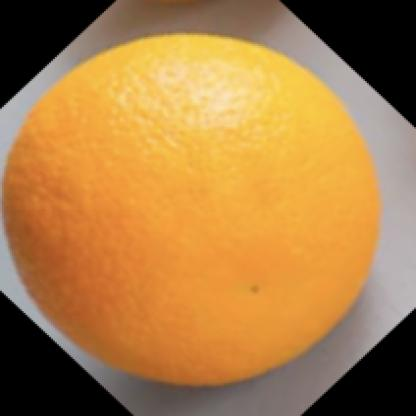fresh: (2, 35, 381, 391)
